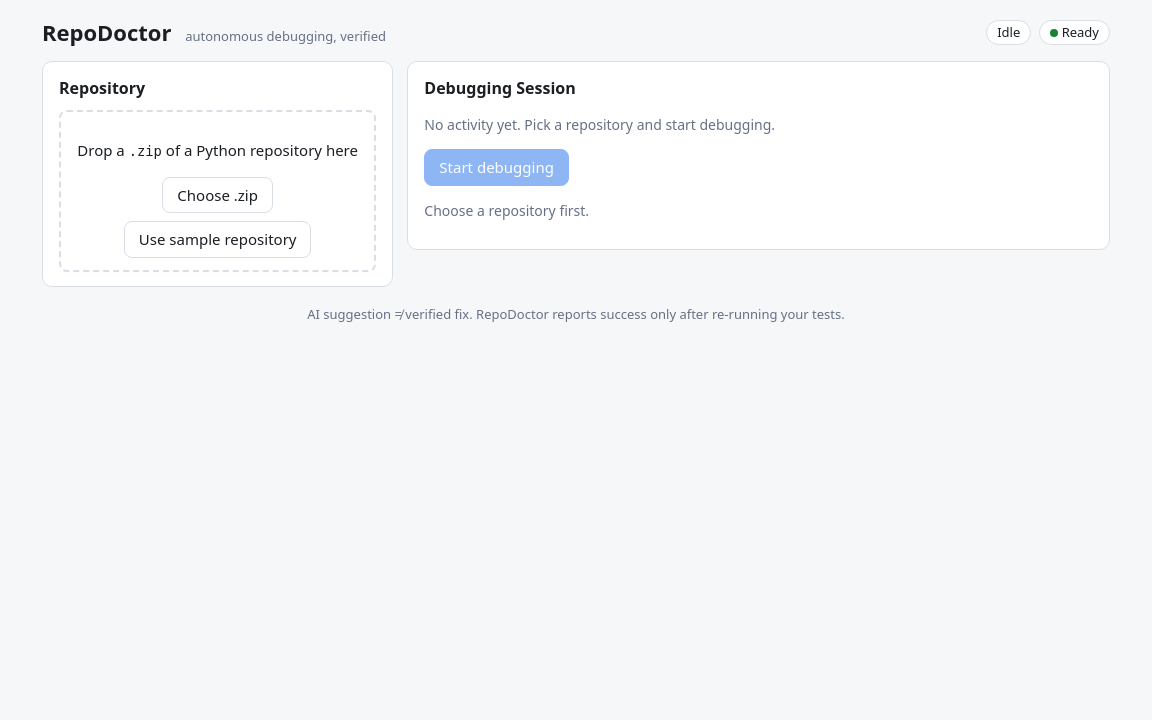
Test: errors and controls › can cancel a running session
Click the button "Use sample repository" at (218, 239), box [124,221,311,258]
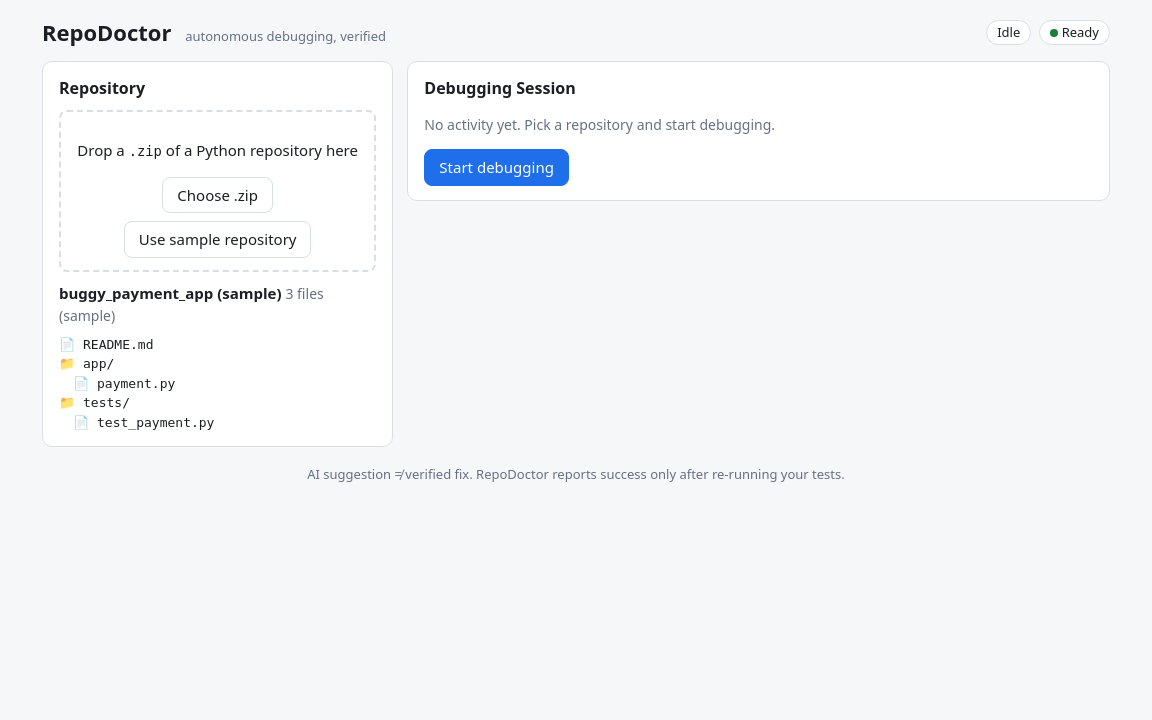
Now the list named "Repository files" is shown, box [59,337,214,430]
Click the button "Start debugging" at (497, 167), box [424,149,569,186]
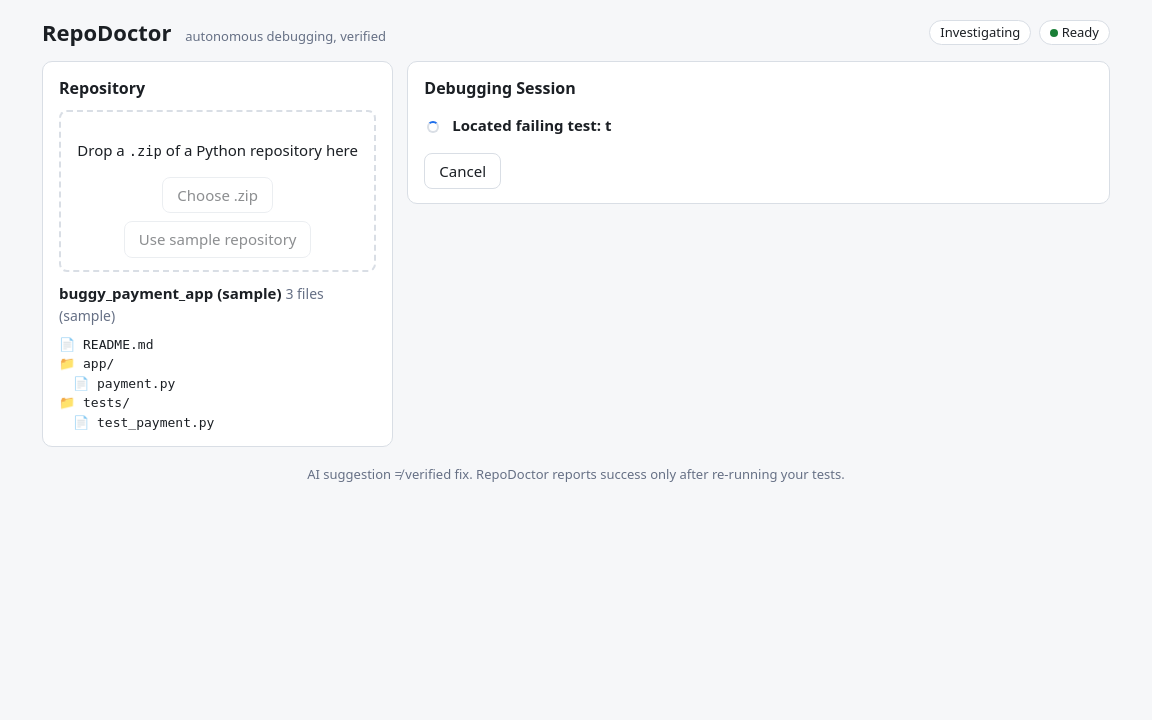
Now the button "Cancel" is shown
Now the text named "Session state" reads "Investigating", box [940,23,1020,41]
Click the button "Cancel" at (463, 171), box [424,152,501,189]
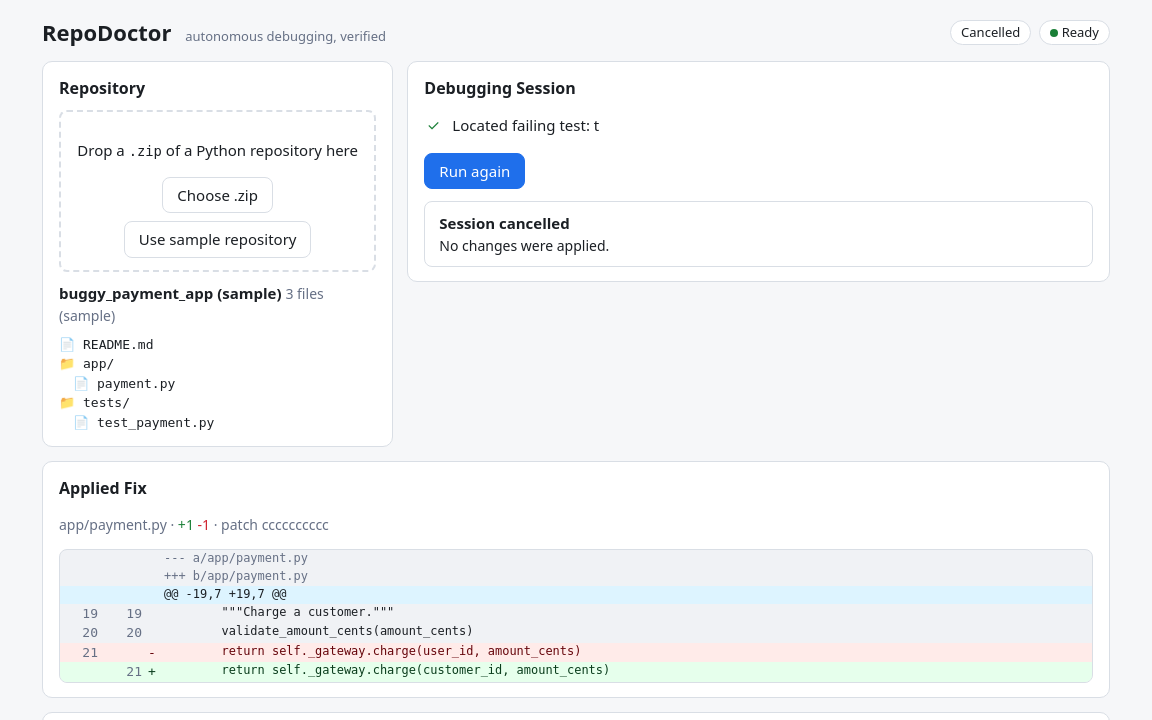
Now the message with test id "outcome" shows "Session cancelled", box [439,213,570,233]
